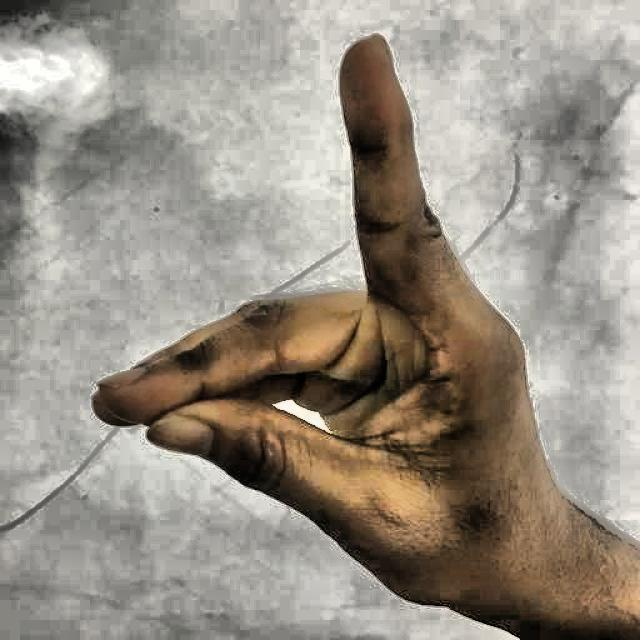Dha: (56, 14, 552, 640)
